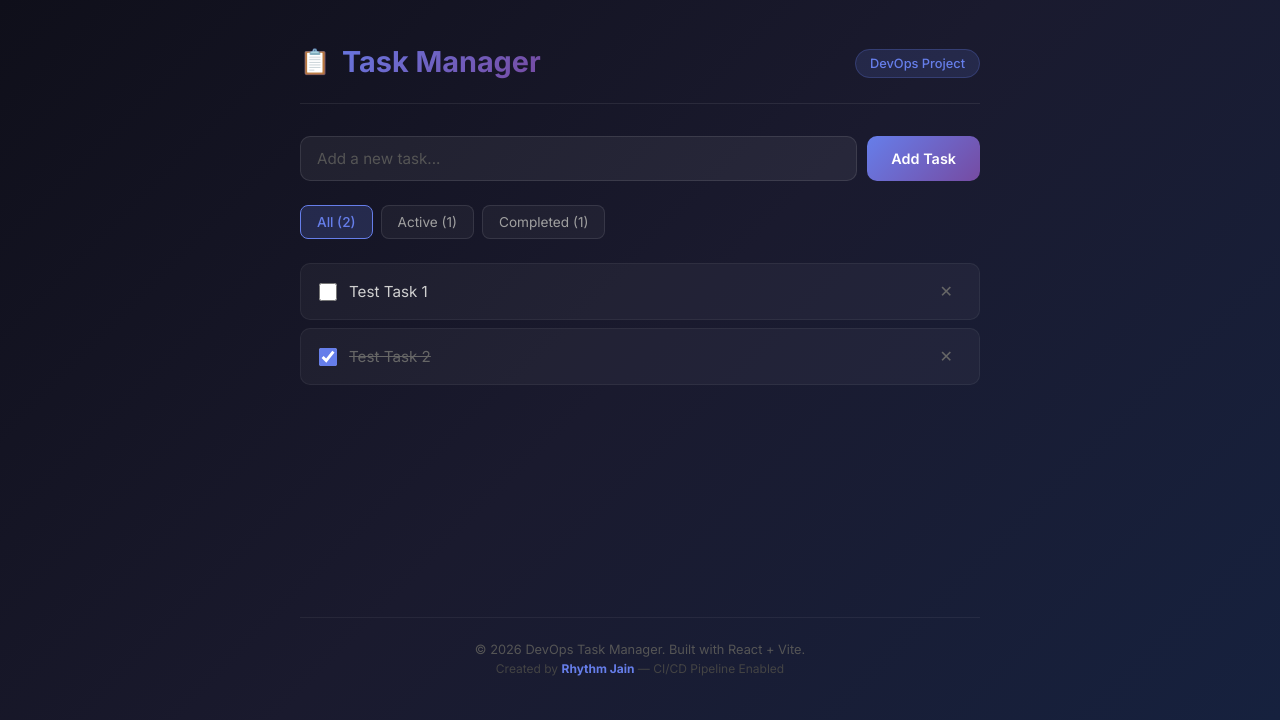
Scenario: App Component › adds a new task
The image size is (1280, 720).
In the field with placeholder "Add a new task...": coordinates (579, 158) [300, 136, 857, 181], type "New Test Task"
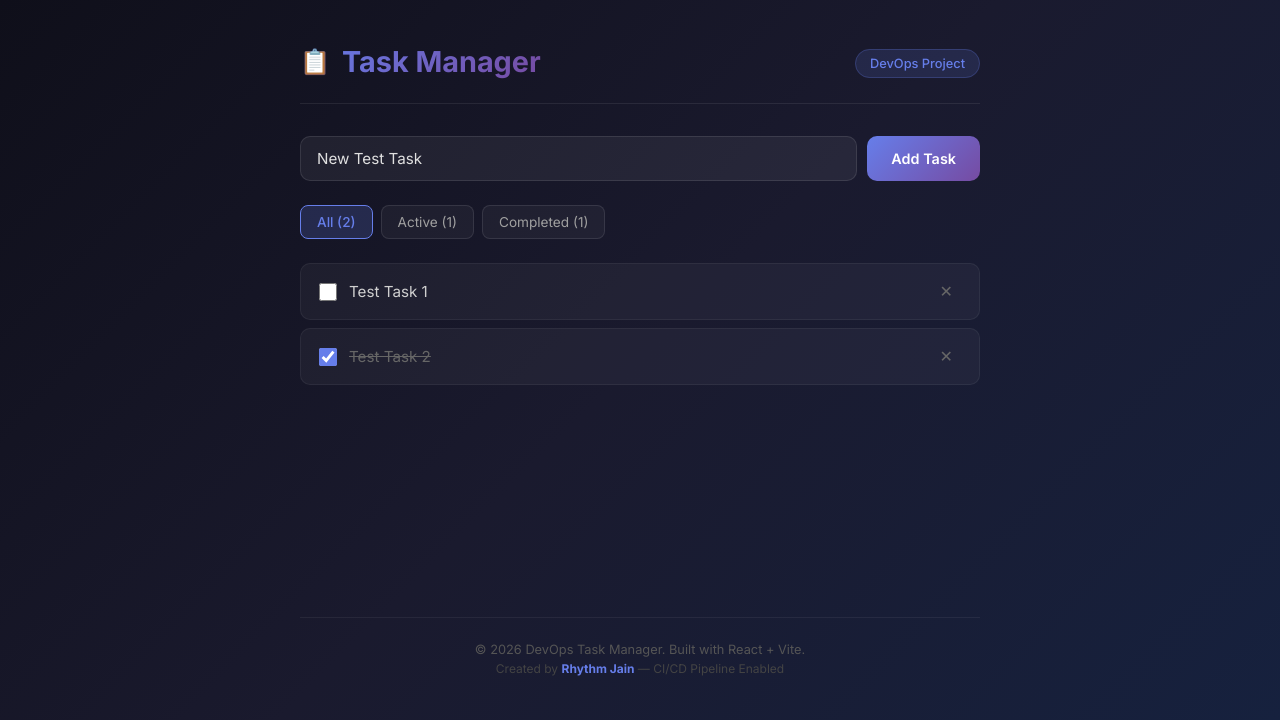
Click the button "Add Task": coordinates (924, 158) [867, 136, 980, 181]
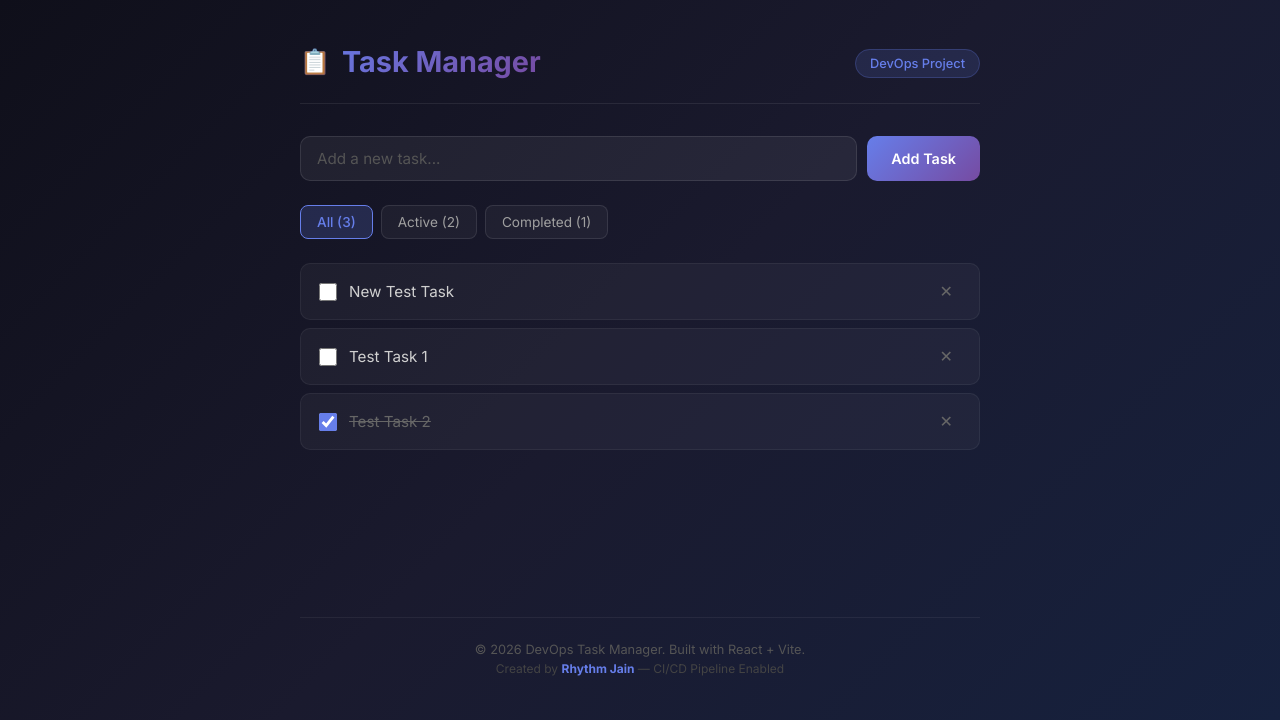
Now the text "New Test Task" is shown, box [349, 282, 454, 301]
